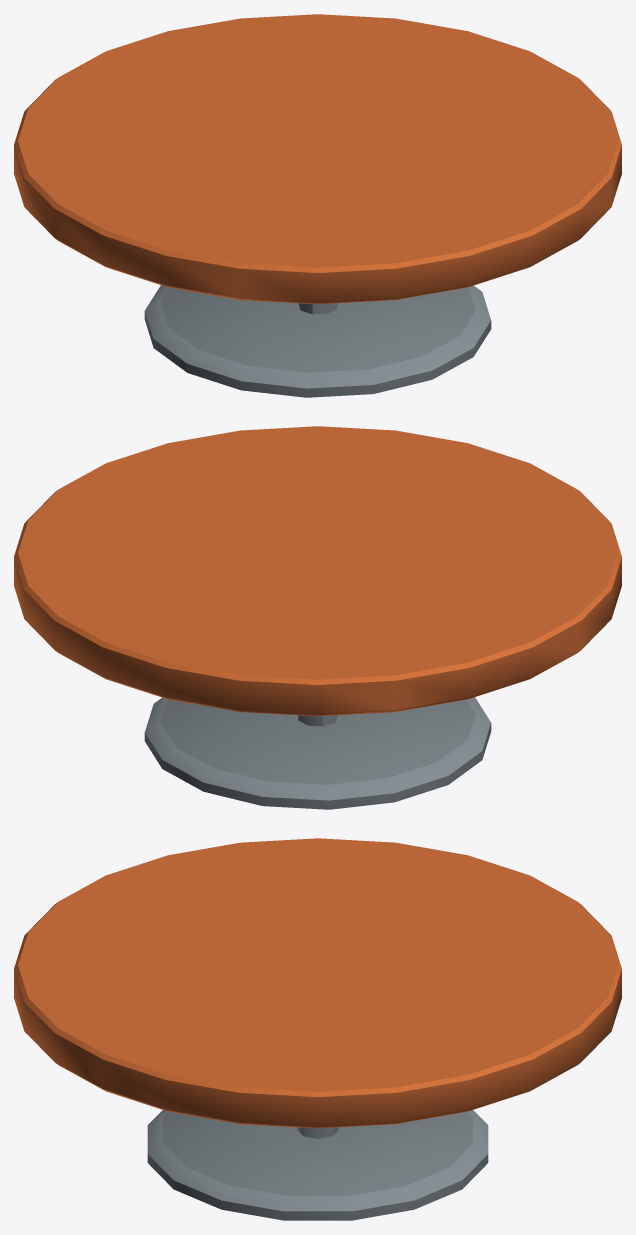
File: table_round_A.obj
3 renders of one model, top to bottom at view 1: azimuth 30°, elevation 25°; view 2: azimuth 150°, elevation 25°; view 3: azimuth 270°, elevation 25°, orthographic.
Visible parts, largest first — view 1: table_round_A_Cylinder.476; view 2: table_round_A_Cylinder.476; view 3: table_round_A_Cylinder.476.
Part boxes in pixels (<box>): table_round_A_Cylinder.476: <box>14,14,621,397</box>; table_round_A_Cylinder.476: <box>14,426,621,809</box>; table_round_A_Cylinder.476: <box>14,838,621,1220</box>.
Bounding box in the file's own units: 3 × 1 × 3.
1 material, 1 textured.
